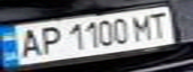0: (97, 17, 118, 47), (112, 15, 133, 45)
1: (63, 20, 84, 52), (81, 18, 100, 50)
A: (12, 26, 45, 60)
M: (127, 11, 157, 42)
P: (33, 24, 63, 56)
T: (145, 9, 175, 39)
